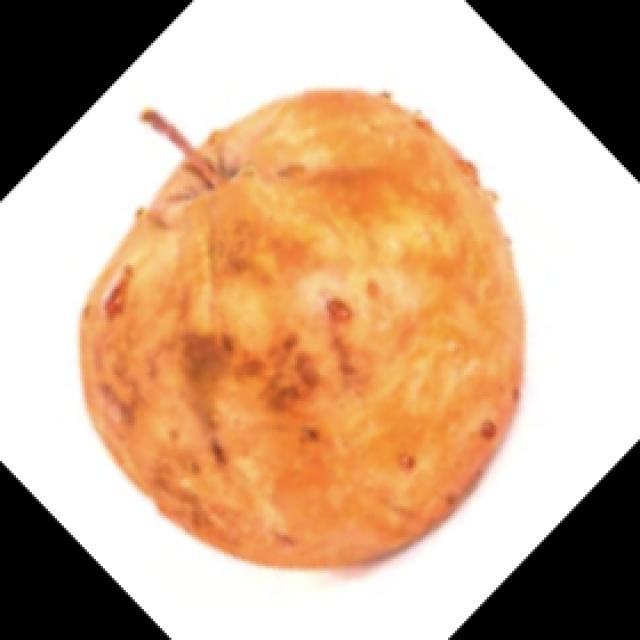Rotten: (79, 82, 527, 578)
